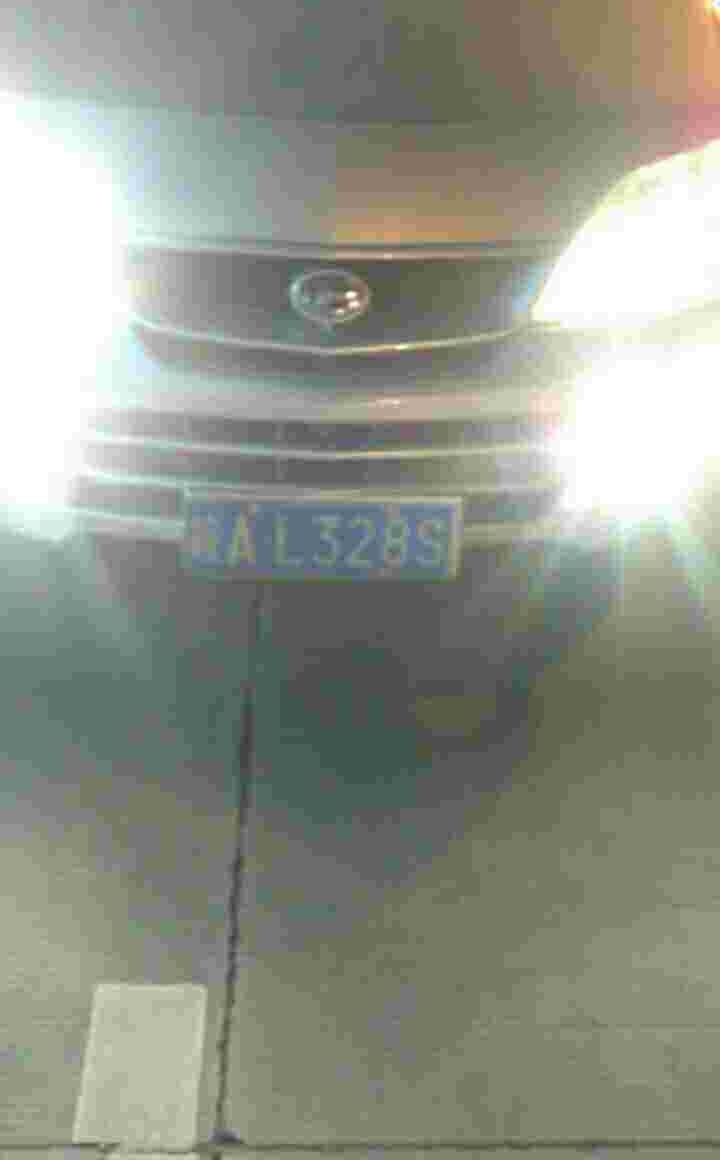car: (181, 491, 467, 573)
